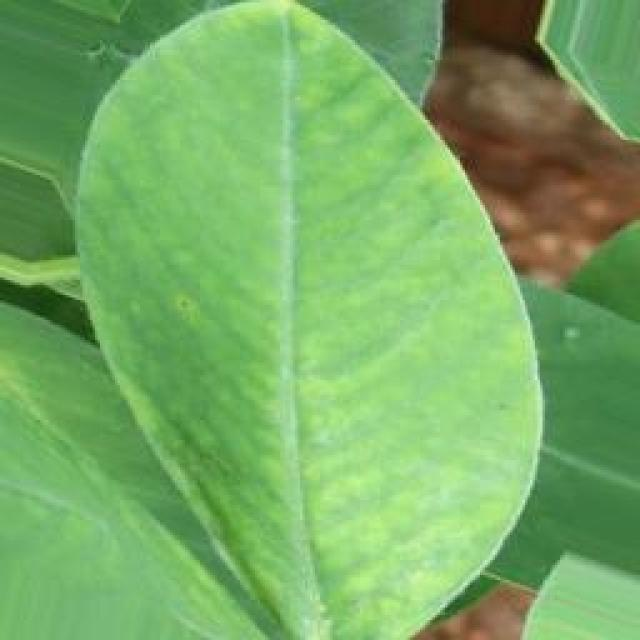Sigatoka: (157, 279, 216, 338)
